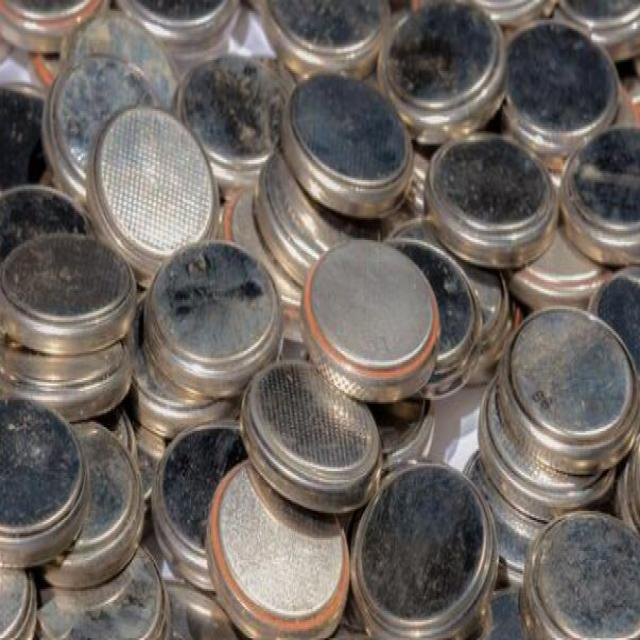electronic: (142, 234, 307, 416)
